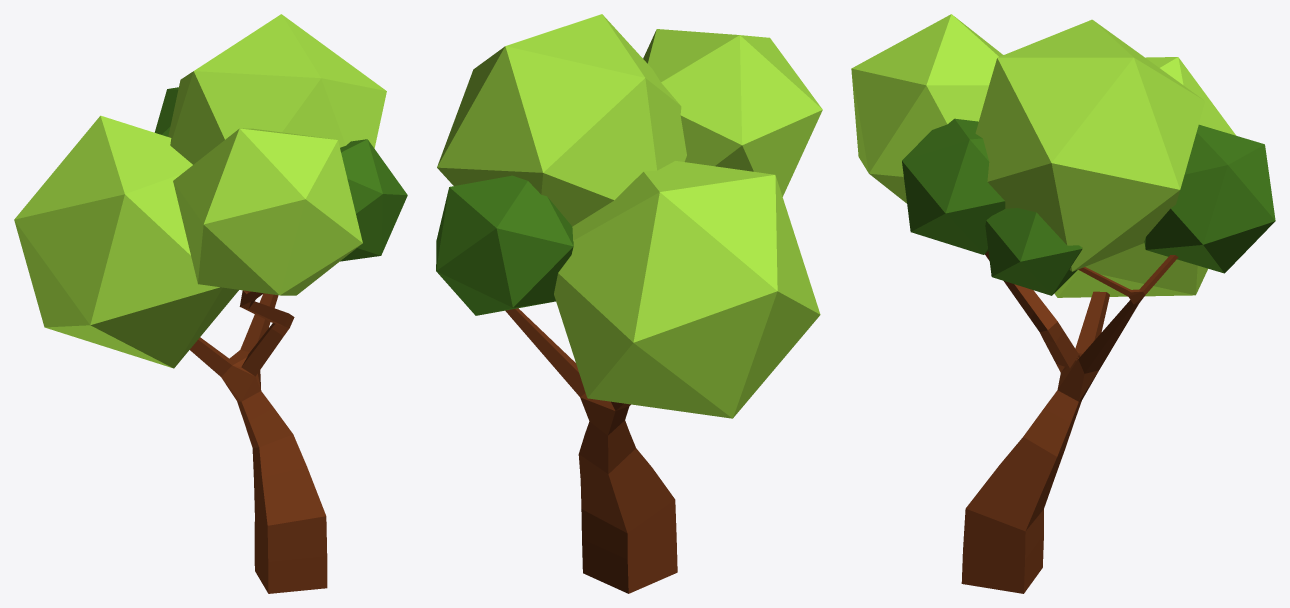
File: Tree.fbx
3 renders of one model, left to right at view 1: azimuth 30°, elevation 25°; view 2: azimuth 150°, elevation 25°; view 3: azimuth 270°, elevation 25°, orthographic. The views are drawn at different scales.
Parts seen in each view (by area): view 1: Icosphere.004, Icosphere.001, Icosphere.003, Tree, Icosphere.005, Icosphere.002; view 2: Icosphere.004, Icosphere.003, Icosphere.001, Tree, Icosphere.002; view 3: Icosphere.003, Tree, Icosphere.001, Icosphere.002, Icosphere.005, Icosphere.004, Icosphere.
Boxes of the visible parts, x1,y1,x2,y2 form: Icosphere.004: (14,115,238,368); Icosphere.001: (173,128,362,295); Icosphere.003: (168,14,386,164); Tree: (190,290,327,593); Icosphere.005: (340,139,407,261); Icosphere.002: (154,87,178,136); Icosphere.004: (554,161,820,418); Icosphere.003: (437,14,686,226); Icosphere.001: (643,29,822,196); Tree: (505,308,677,593); Icosphere.002: (436,175,573,315); Icosphere.003: (975,19,1205,271); Tree: (961,251,1178,593); Icosphere.001: (851,14,1003,203); Icosphere.002: (1144,124,1275,273); Icosphere.005: (902,118,1005,254); Icosphere.004: (1054,57,1235,297); Icosphere: (985,208,1082,295).
Size of the model in its own units: 482 by 724 by 510.
